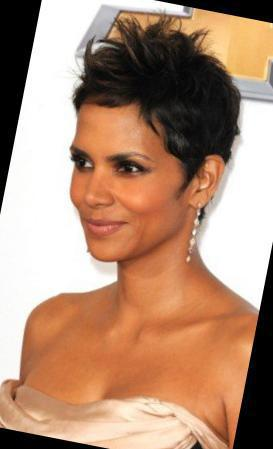Sober: (70, 112, 188, 255)
